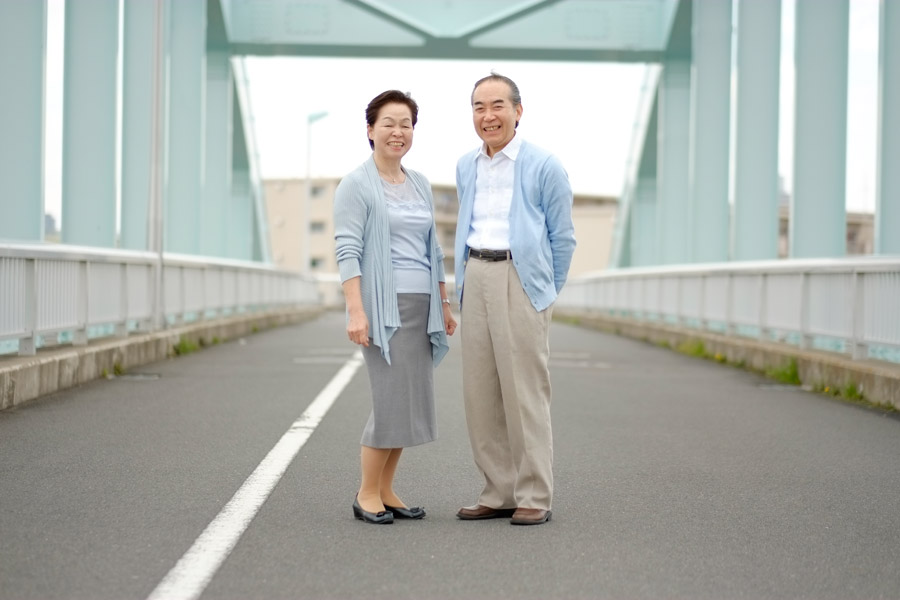female: (330, 87, 455, 526)
male: (448, 71, 581, 529)
